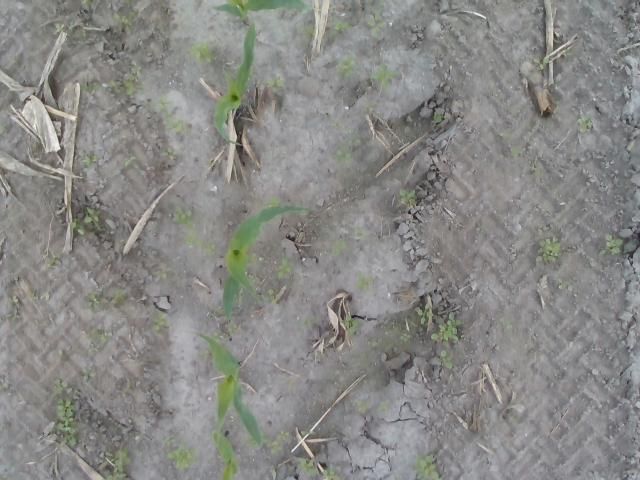Maize: (220, 206, 312, 324), (190, 328, 264, 450), (214, 22, 256, 150), (213, 0, 311, 25), (214, 431, 241, 480)
Weeds: (49, 376, 80, 449), (160, 432, 200, 472), (153, 96, 189, 136), (110, 60, 145, 98), (368, 62, 402, 96), (430, 311, 464, 343), (71, 206, 106, 236), (174, 207, 200, 245), (410, 453, 445, 480), (105, 448, 132, 480), (366, 0, 385, 40), (334, 118, 362, 145), (536, 236, 561, 265), (190, 38, 216, 64), (266, 431, 291, 456), (84, 328, 110, 352), (335, 56, 360, 80), (353, 270, 376, 294), (328, 17, 352, 40), (292, 455, 318, 476), (274, 254, 293, 280), (333, 144, 352, 169), (328, 238, 353, 257), (112, 11, 133, 33), (604, 232, 624, 255), (430, 350, 454, 369), (415, 302, 434, 326), (84, 290, 104, 312), (398, 186, 418, 207), (322, 463, 346, 480), (152, 262, 172, 282), (264, 76, 285, 95), (342, 314, 360, 336), (150, 311, 168, 331), (159, 144, 178, 162), (576, 114, 593, 134), (78, 80, 100, 95), (352, 398, 370, 415), (68, 19, 88, 34), (44, 255, 64, 270), (260, 288, 278, 304), (111, 290, 129, 306), (79, 154, 103, 166), (528, 160, 544, 177), (200, 240, 216, 256), (510, 146, 530, 158), (557, 278, 574, 292), (126, 0, 140, 17), (353, 225, 368, 240), (120, 154, 136, 168), (26, 289, 43, 302), (263, 197, 281, 209), (399, 332, 414, 346), (376, 400, 391, 414), (81, 368, 95, 381), (302, 25, 314, 40), (50, 22, 65, 34), (431, 111, 444, 124), (7, 294, 20, 306), (210, 332, 224, 343), (361, 102, 375, 113), (313, 350, 327, 361), (500, 318, 513, 329), (539, 56, 549, 70), (228, 324, 238, 336), (198, 350, 210, 360), (0, 123, 9, 136), (2, 313, 16, 321), (80, 0, 96, 6), (338, 382, 347, 392), (367, 340, 378, 348), (56, 350, 64, 361), (0, 382, 9, 390), (300, 430, 308, 436)
